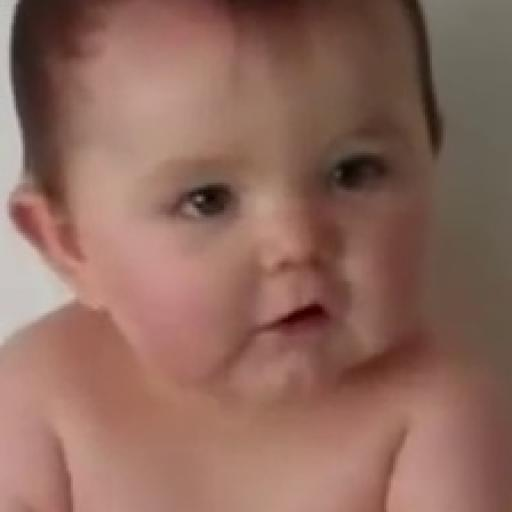Autism: (9, 0, 511, 415)
